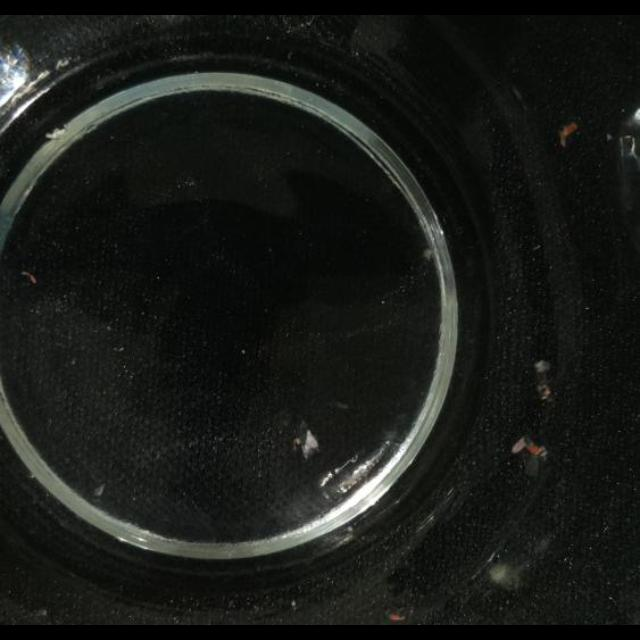Fibre: (291, 420, 319, 460), (533, 359, 553, 401)
Fragment: (512, 359, 556, 477), (556, 123, 578, 147)
microbeads: (20, 271, 36, 285), (92, 482, 106, 496), (388, 612, 406, 622), (240, 349, 246, 355)
